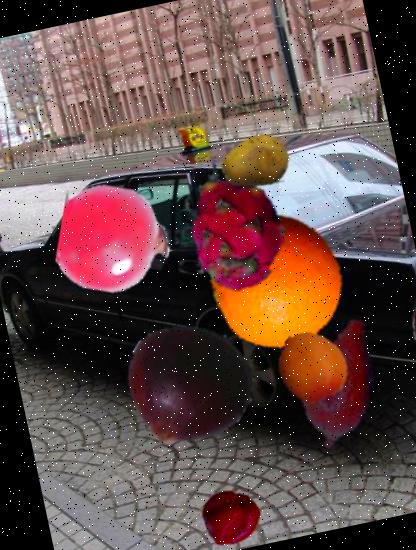Apricot: (268, 325, 355, 412)
Chestnut: (110, 310, 262, 461)
Orange: (196, 201, 355, 360)
Pepper: (194, 482, 265, 550)
Pitahaya: (156, 149, 313, 306)
Potato: (214, 122, 298, 205)
Redcurrant: (49, 174, 182, 307)
Salak: (259, 303, 416, 463)
